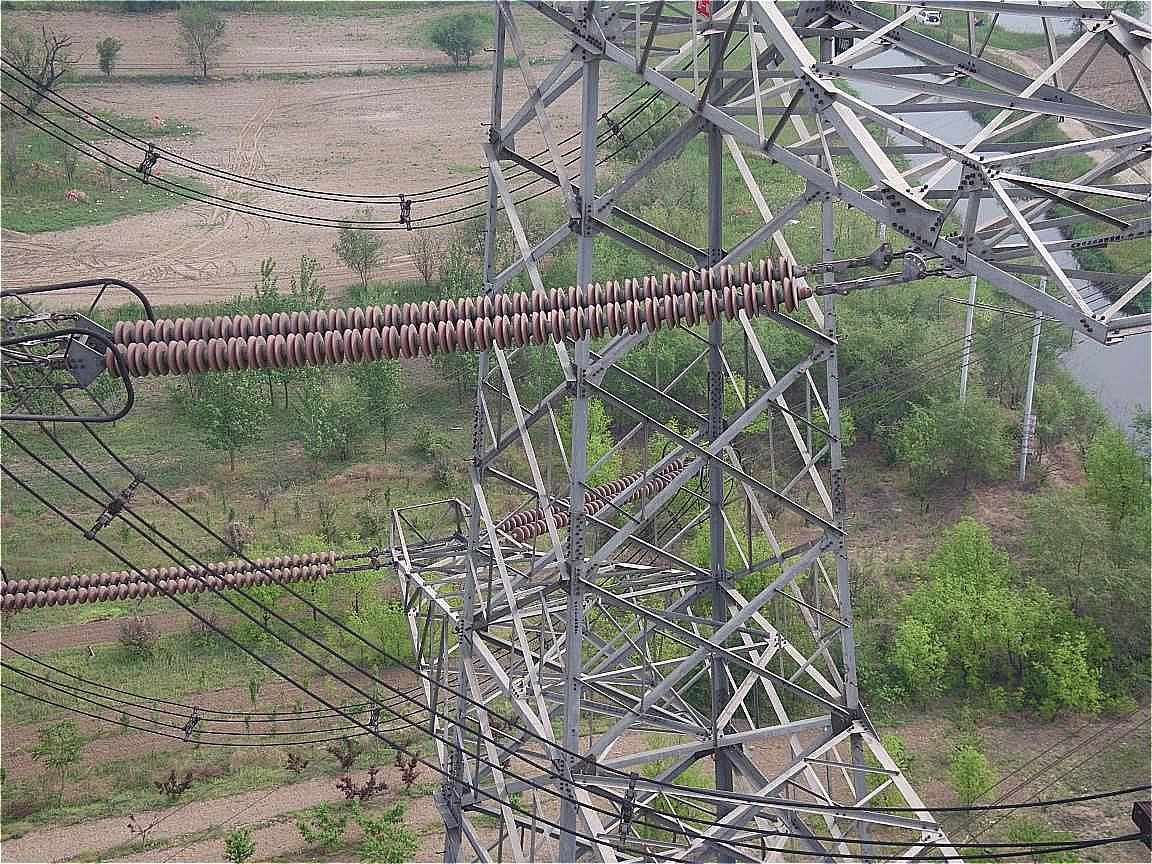insultor1: (1, 545, 351, 617)
insultor2: (90, 248, 808, 387)
